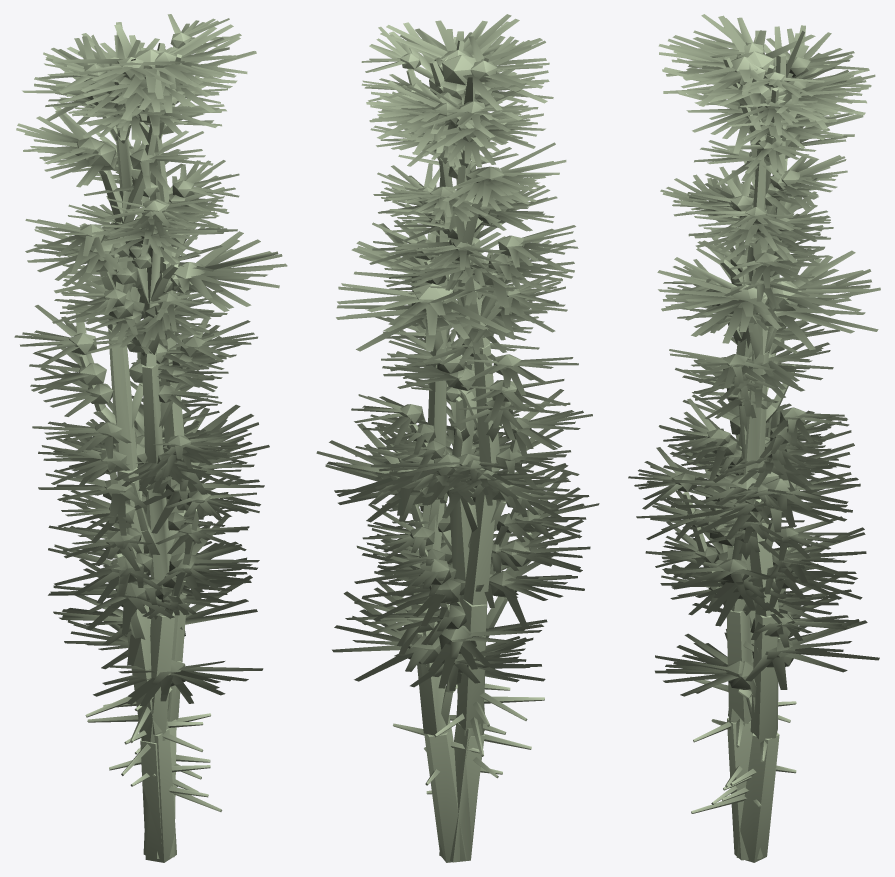
The model's file is tree_pine_jack.glb.
3 renders of one model, left to right at view 1: azimuth 30°, elevation 25°; view 2: azimuth 150°, elevation 25°; view 3: azimuth 270°, elevation 25°, orthographic.
Parts seen in each view (by area): view 1: tier1_foliage, tier2_foliage, tier0_foliage, tier1_bark, tier2_bark, tier0_bark; view 2: tier1_foliage, tier2_foliage, tier0_foliage, tier1_bark, tier0_bark, tier2_bark; view 3: tier2_foliage, tier0_foliage, tier1_foliage, tier0_bark, tier2_bark, tier1_bark.
Boxes of the visible parts, x1=… form: tier1_foliage: x1=14, y1=22, x2=259, y2=634; tier2_foliage: x1=38, y1=14, x2=259, y2=618; tier0_foliage: x1=52, y1=24, x2=287, y2=706; tier1_bark: x1=79, y1=57, x2=177, y2=862; tier2_bark: x1=87, y1=54, x2=210, y2=847; tier0_bark: x1=135, y1=43, x2=222, y2=858; tier1_foliage: x1=354, y1=14, x2=599, y2=645; tier2_foliage: x1=351, y1=26, x2=589, y2=617; tier0_foliage: x1=316, y1=21, x2=549, y2=690; tier1_bark: x1=426, y1=82, x2=544, y2=862; tier0_bark: x1=393, y1=60, x2=483, y2=862; tier2_bark: x1=406, y1=40, x2=518, y2=841; tier2_foliage: x1=628, y1=72, x2=851, y2=623; tier0_foliage: x1=655, y1=15, x2=880, y2=696; tier1_foliage: x1=645, y1=14, x2=875, y2=641; tier0_bark: x1=691, y1=64, x2=796, y2=862; tier2_bark: x1=682, y1=57, x2=796, y2=804; tier1_bark: x1=690, y1=53, x2=790, y2=860.
Size of the model in its own units: 0.3046 by 1 by 0.2828.
